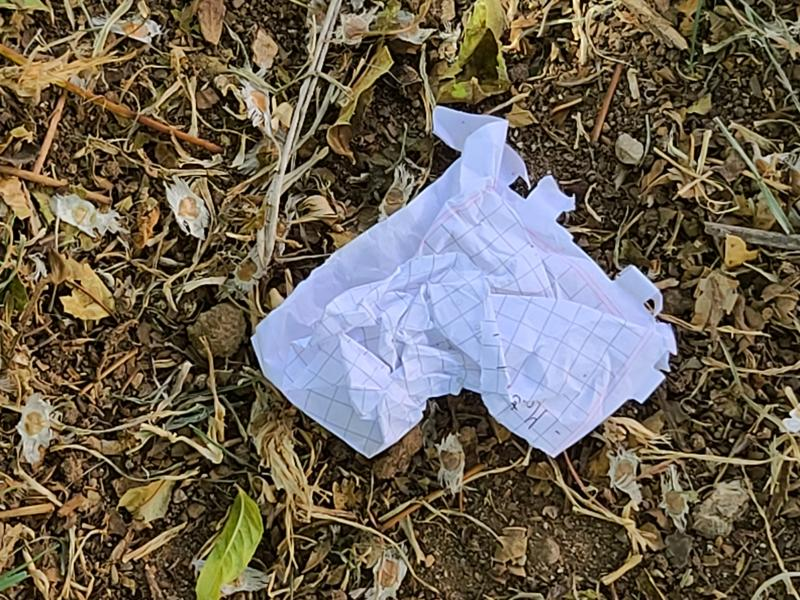papel: (248, 108, 679, 461)
